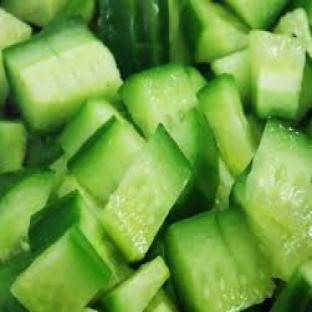Cucumber: (4, 19, 120, 133), (121, 64, 217, 201), (101, 126, 191, 260), (240, 122, 311, 280), (29, 182, 131, 291), (166, 210, 273, 311), (12, 227, 110, 311), (69, 117, 144, 203), (199, 75, 254, 176), (218, 208, 273, 305), (0, 170, 53, 262), (249, 32, 305, 119), (170, 109, 218, 204), (101, 258, 169, 311), (59, 98, 121, 156), (212, 50, 251, 107), (97, 227, 131, 287), (271, 261, 311, 311), (0, 254, 33, 311), (56, 174, 103, 214), (275, 8, 311, 57), (0, 122, 27, 172), (0, 8, 32, 49), (25, 134, 63, 166), (229, 163, 252, 209), (214, 157, 234, 209), (49, 154, 68, 197), (299, 56, 311, 117), (145, 289, 177, 311), (247, 112, 264, 145), (186, 67, 207, 93), (0, 52, 9, 107), (308, 120, 311, 138)
